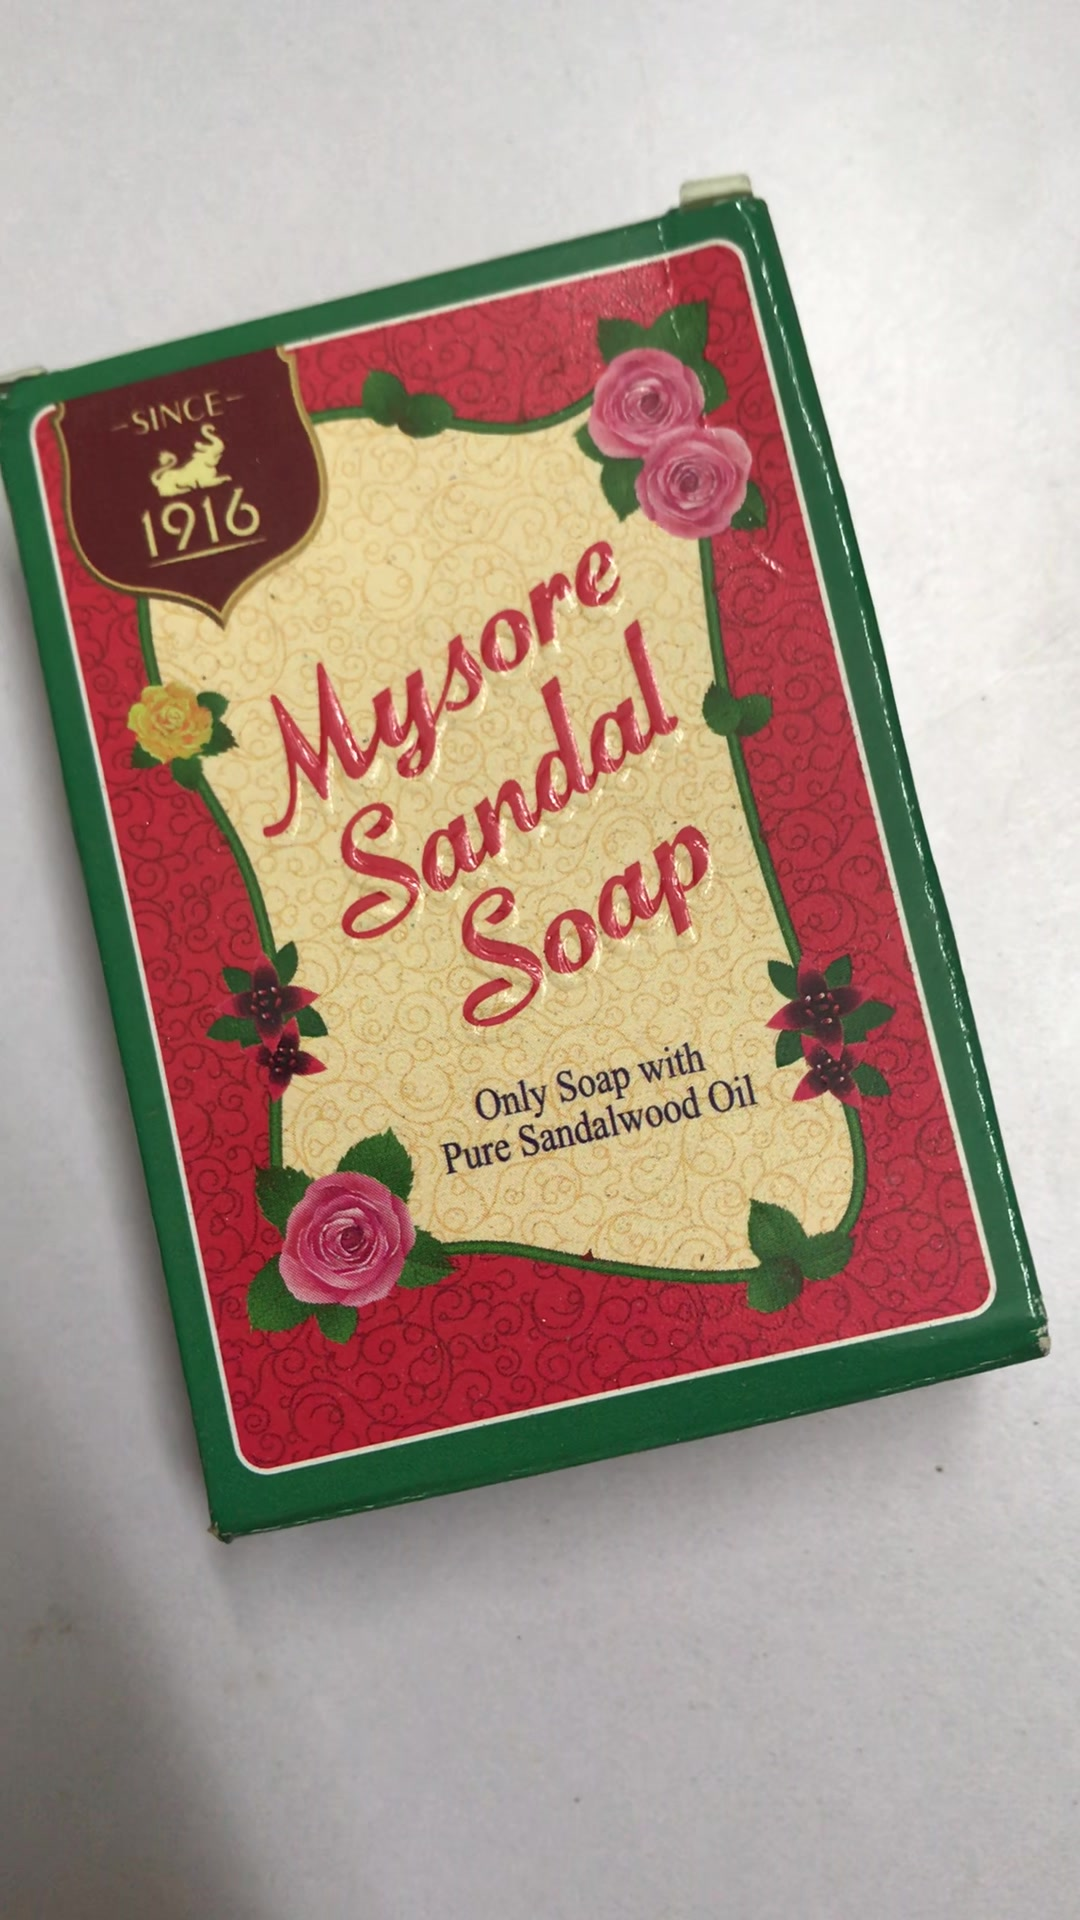mysore sandal soap: (1, 175, 1044, 1544)
